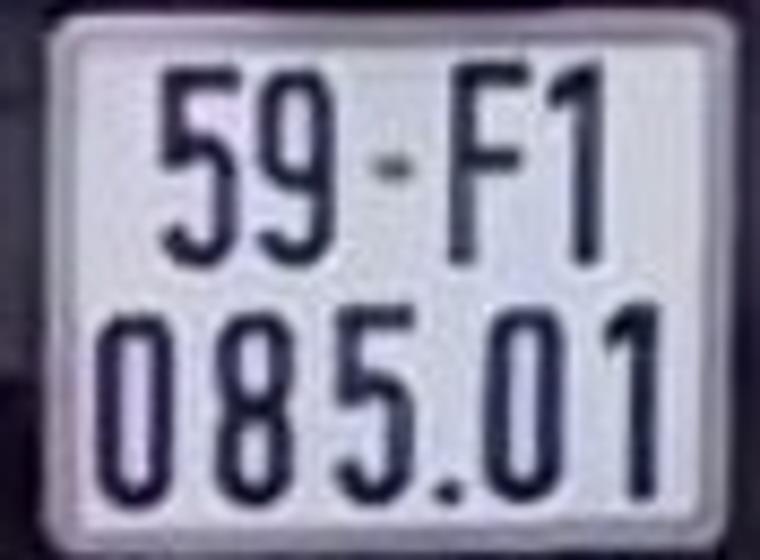-: (370, 152, 418, 188)
.: (429, 478, 471, 514)
0: (90, 314, 182, 509), (479, 307, 567, 502)
1: (541, 60, 614, 269), (599, 298, 662, 502)
5: (328, 301, 418, 508), (161, 60, 246, 272)
8: (213, 309, 301, 509)
9: (256, 67, 339, 264)
F: (442, 58, 543, 263)
